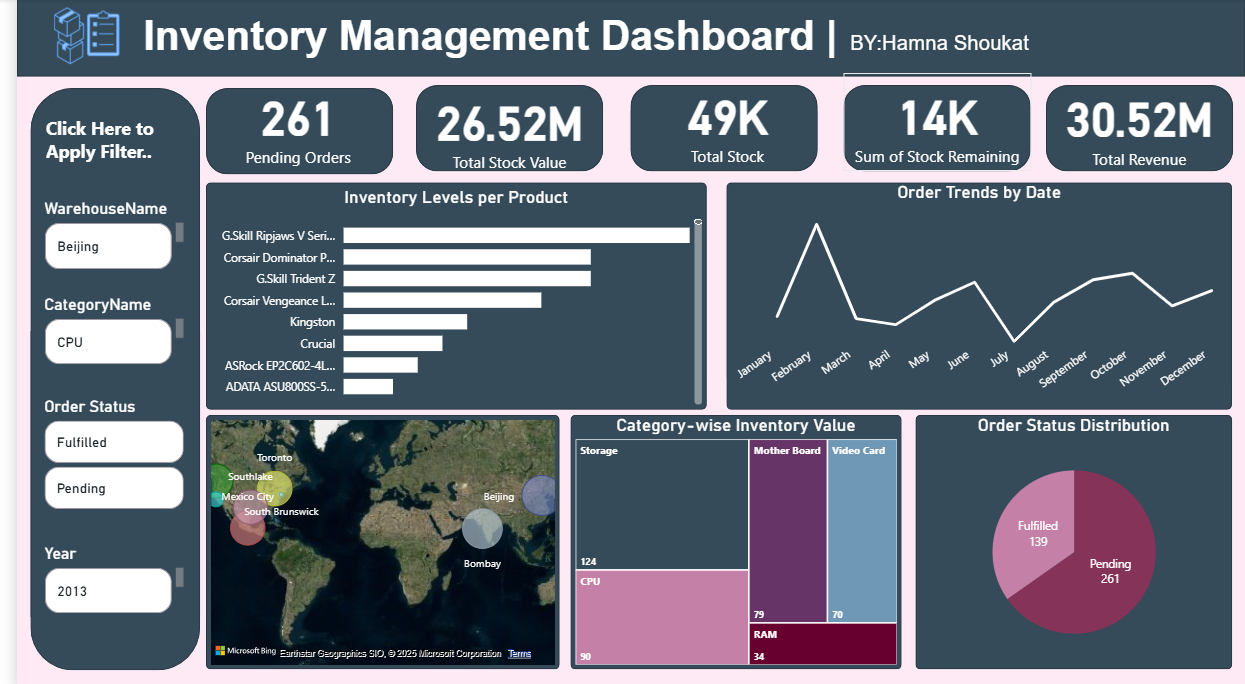

The page's visual inventory and layout, read from the dashboard file:
{"tool":"powerbi","page":{"name":"Page 1","canvas":[1280,720],"ordinal":0},"visuals":[{"type":"shape","box":[0,0,1280,81.7],"z":0},{"type":"shape","box":[13.3,93.3,176.7,606.7],"z":1000},{"type":"advancedSlicerVisual","fields":{"Values":["ML-Dataset.WarehouseName"]},"box":[23.3,210,155,78.3],"z":2000},{"type":"advancedSlicerVisual","fields":{"Values":["ML-Dataset.CategoryName"]},"box":[23.3,310,155,76.7],"z":3000},{"type":"advancedSlicerVisual","fields":{"Values":["ML-Dataset.Order Status"]},"box":[23.3,415,155,121.7],"z":4000},{"type":"advancedSlicerVisual","fields":{"Values":["ML-Dataset.OrderDate.Variation.Date Hierarchy.Year"]},"box":[23.3,568.3,155,76.7],"z":5000},{"type":"shape","box":[196.7,93.3,195,90],"z":6000},{"type":"shape","box":[415,90,195,90],"z":7000},{"type":"shape","box":[640,90,195,90],"z":8000},{"type":"shape","box":[861.7,90,195,90],"z":9000},{"type":"shape","box":[1071.7,90,195,90],"z":10000},{"type":"card","fields":{"Values":["ML-Dataset.Pending Orders"]},"box":[196.7,78.3,191.7,105],"z":11000},{"type":"card","fields":{"Values":["ML-Dataset.Total Stock Value"]},"box":[420,78.3,185,115],"z":12000},{"type":"card","fields":{"Values":["ML-Dataset.Total Stock"]},"box":[656.5,81.3,167.2,95.3],"z":13000},{"type":"card","fields":{"Values":["Sum(ML-Dataset.Stock Remaining)"]},"box":[861.7,78.3,195,101.7],"z":14000},{"type":"card","fields":{"Values":["ML-Dataset.Total Revenue"]},"box":[1080,85,178.3,95],"z":15000},{"type":"shape","box":[196.7,191.7,521.7,236.7],"z":16000},{"type":"shape","box":[576.7,435,345,265],"z":17000},{"type":"shape","box":[740,191.7,526.7,236.7],"z":18000},{"type":"shape","box":[936.7,435,330,265],"z":19000},{"type":"shape","box":[196.7,435,368.3,265],"z":20000},{"type":"pieChart","title":"Order Status Distribution","fields":{"Category":["ML-Dataset.Order Status"],"Y":["CountNonNull(ML-Dataset.Order Status)"]},"box":[936.7,435,330,265],"z":21000},{"type":"clusteredBarChart","title":"Inventory Levels per Product","fields":{"Category":["ML-Dataset.ProductName"],"Y":["Count(ML-Dataset.Stock Remaining)"]},"box":[196.7,196.7,521.7,231.7],"z":22000},{"type":"lineChart","title":"Order Trends by Date","fields":{"Category":["ML-Dataset.OrderDate.Variation.Date Hierarchy.Month"],"Y":["Sum(ML-Dataset.Order_Qty)"]},"box":[740,191.7,526.7,236.7],"z":23000},{"type":"treemap","title":"Category-wise Inventory Value","fields":{"Group":["ML-Dataset.CategoryName"],"Values":["Count(ML-Dataset.Stock Value)"]},"box":[576.7,435,345,265],"z":24000},{"type":"map","fields":{"Category":["ML-Dataset.City"],"Size":["Sum(ML-Dataset.Stock Remaining)"]},"box":[196.7,435,368.3,265],"z":25000},{"type":"textbox","box":[25,116.7,153.3,63.3],"z":26000},{"type":"image","box":[13.3,0,116.7,78.3],"z":27000},{"type":"textbox","box":[126.7,5,1101.7,83.3],"z":28000}]}

Visuals, with their boxes in screenshot pixels (x1, y1, x2, y2), scaled from the page's 1280x720 canvas onto the 1245x684 screenshot:
shape: <box>0,0,1244,78</box>
shape: <box>13,89,185,665</box>
advancedSlicerVisual - ML-Dataset.WarehouseName: <box>23,200,173,274</box>
advancedSlicerVisual - ML-Dataset.CategoryName: <box>23,294,173,367</box>
advancedSlicerVisual - ML-Dataset.Order Status: <box>23,394,173,510</box>
advancedSlicerVisual - ML-Dataset.OrderDate.Variation.Date Hierarchy.Year: <box>23,540,173,613</box>
shape: <box>191,89,381,174</box>
shape: <box>404,86,593,171</box>
shape: <box>622,86,812,171</box>
shape: <box>838,86,1028,171</box>
shape: <box>1042,86,1232,171</box>
card - ML-Dataset.Pending Orders: <box>191,74,378,174</box>
card - ML-Dataset.Total Stock Value: <box>409,74,588,184</box>
card - ML-Dataset.Total Stock: <box>639,77,801,168</box>
card - Sum(ML-Dataset.Stock Remaining): <box>838,74,1028,171</box>
card - ML-Dataset.Total Revenue: <box>1050,81,1224,171</box>
shape: <box>191,182,699,407</box>
shape: <box>561,413,896,665</box>
shape: <box>720,182,1232,407</box>
shape: <box>911,413,1232,665</box>
shape: <box>191,413,550,665</box>
"Order Status Distribution" pieChart: <box>911,413,1232,665</box>
"Inventory Levels per Product" clusteredBarChart: <box>191,187,699,407</box>
"Order Trends by Date" lineChart: <box>720,182,1232,407</box>
"Category-wise Inventory Value" treemap: <box>561,413,896,665</box>
map - ML-Dataset.City x Sum(ML-Dataset.Stock Remaining): <box>191,413,550,665</box>
textbox: <box>24,111,173,171</box>
image: <box>13,0,126,74</box>
textbox: <box>123,5,1195,84</box>
